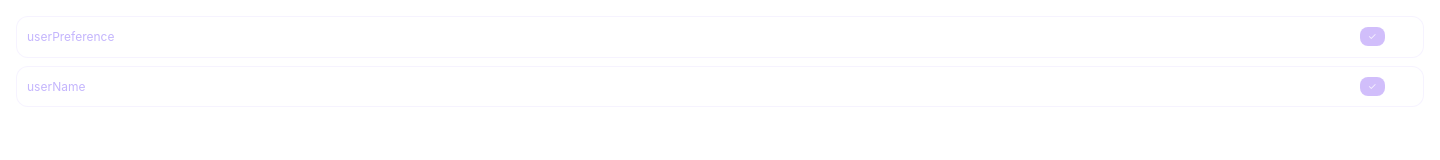
Scenario: CCMProposals - Accessibility › Disabled State › buttons are disabled while resolving
# Click accept button
Click the button "✓" in the row of "dark mode".
click(1372, 36)  # box [1360,27,1385,46]
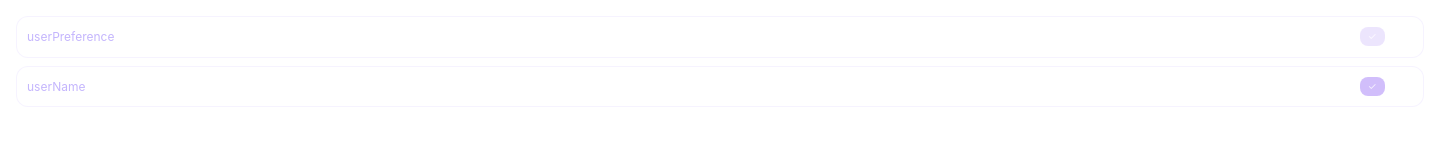
Now the button "✓" in the row of "dark mode" is disabled, box [1360,27,1385,46]
